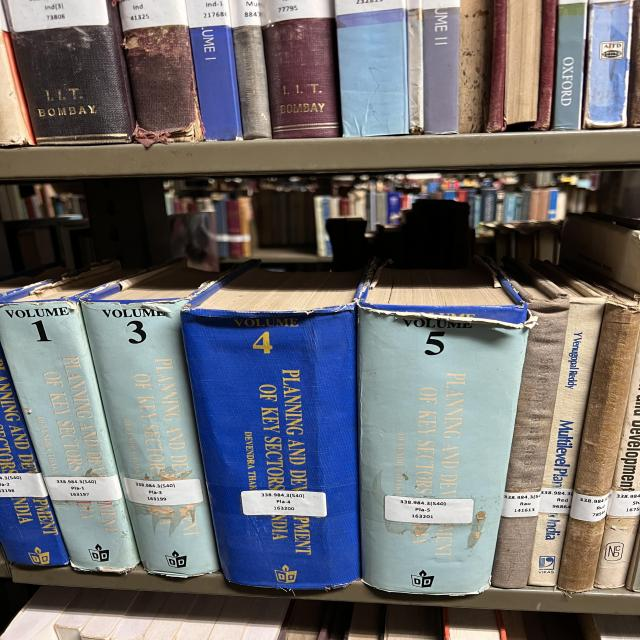Book: (182, 261, 362, 590), (358, 260, 533, 595), (82, 260, 222, 578), (0, 261, 138, 572), (528, 261, 605, 586), (505, 259, 570, 508), (575, 301, 640, 496), (558, 515, 605, 592), (492, 512, 537, 589)
Label: (385, 495, 473, 524), (240, 490, 327, 518), (123, 478, 203, 505), (45, 475, 123, 501), (502, 491, 542, 518), (538, 488, 573, 514)
